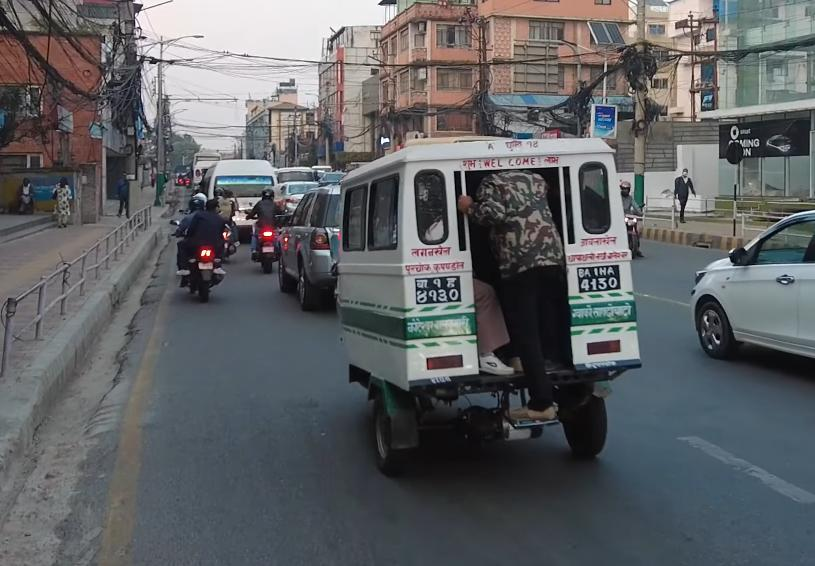bike: (169, 222, 233, 304), (247, 209, 292, 277)
car: (686, 199, 815, 370)
tempo: (314, 124, 650, 474)
